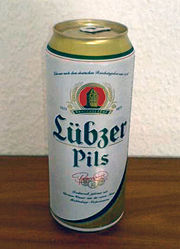beer can: (46, 18, 135, 233)
